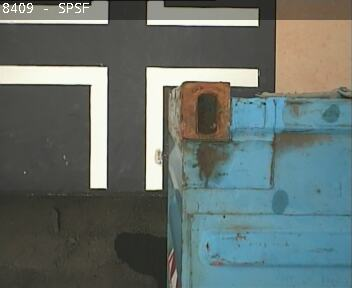groundmarker_1: (1, 65, 258, 189)
